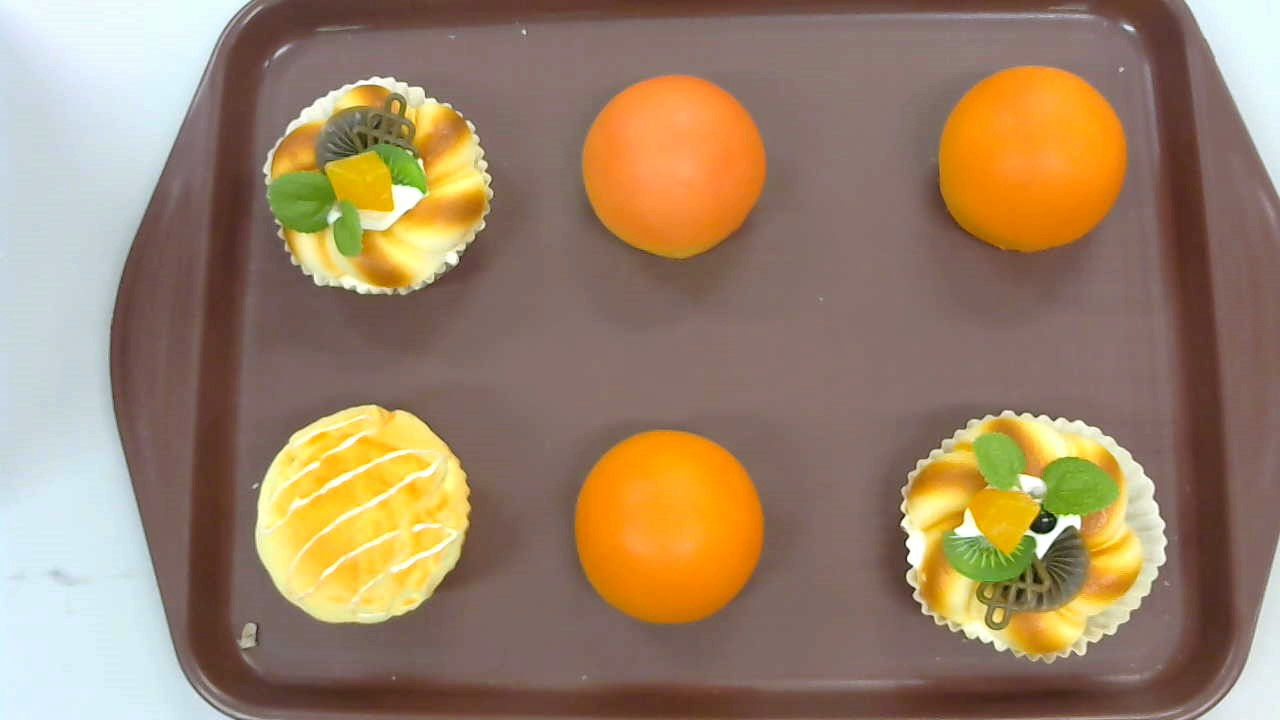bun: (572, 430, 765, 625), (939, 66, 1126, 251), (581, 75, 766, 259)
cupcake: (256, 403, 470, 624)
fruit tart: (898, 409, 1166, 665), (264, 76, 494, 297)
